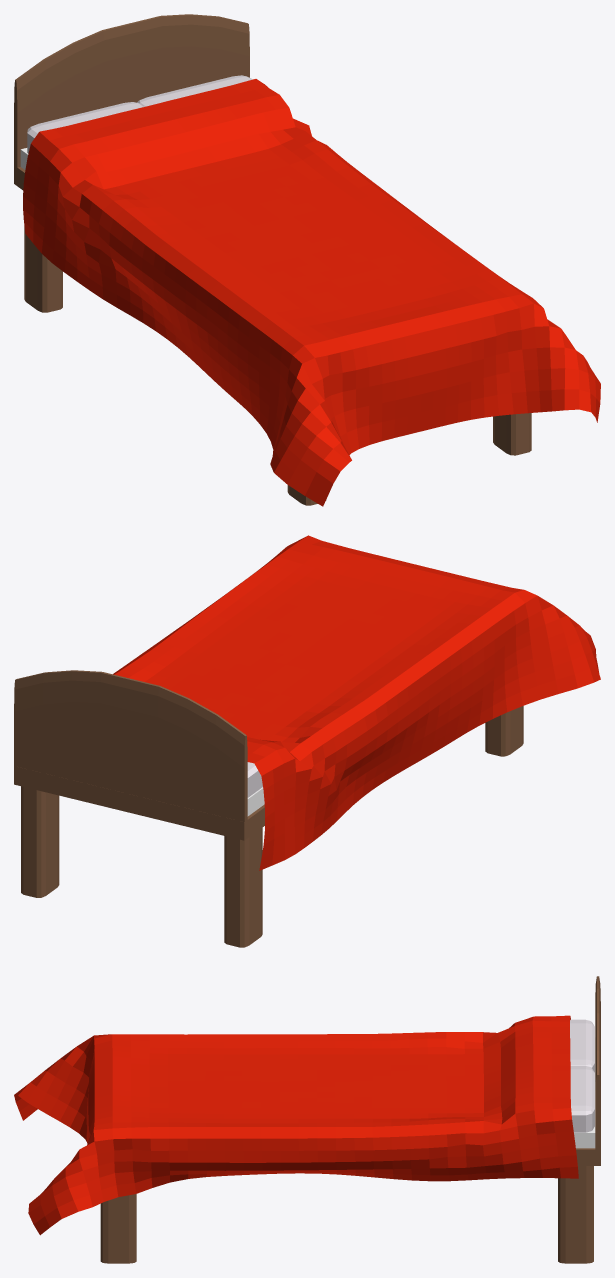
The model's file is Bed.fbx.
The picture shows the model from 3 angles, top to bottom: view 1: azimuth 30°, elevation 25°; view 2: azimuth 150°, elevation 25°; view 3: azimuth 270°, elevation 25°; orthographic projection. The views are drawn at different scales.
Visible parts, largest first — view 1: Cube.004; view 2: Cube.004; view 3: Cube.004.
Boxes of the visible parts, bbox=[...] form: Cube.004: bbox=[14, 14, 600, 506]; Cube.004: bbox=[14, 535, 600, 947]; Cube.004: bbox=[14, 976, 600, 1263].
Size of the model in its own units: 543 by 395 by 984.
